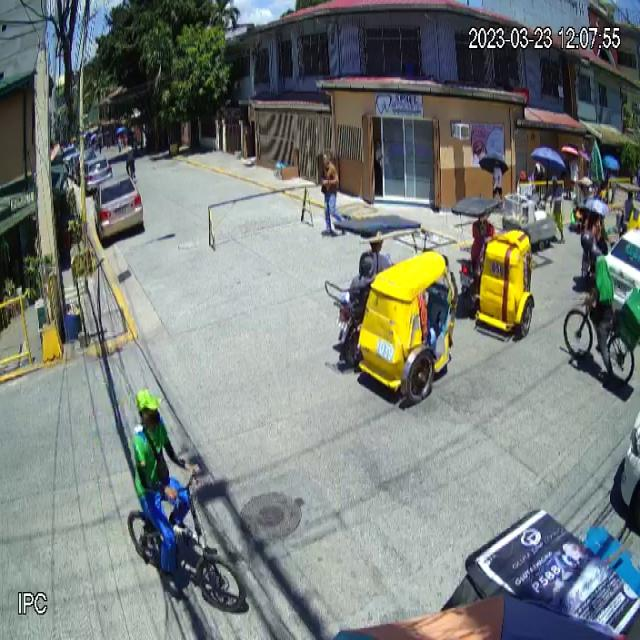Car: (94, 174, 144, 239)
Tricycle: (331, 210, 462, 402), (452, 192, 536, 347)
